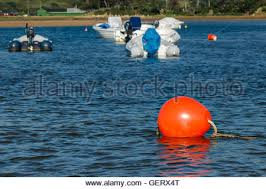buoy: (157, 95, 213, 137), (208, 34, 217, 40)
